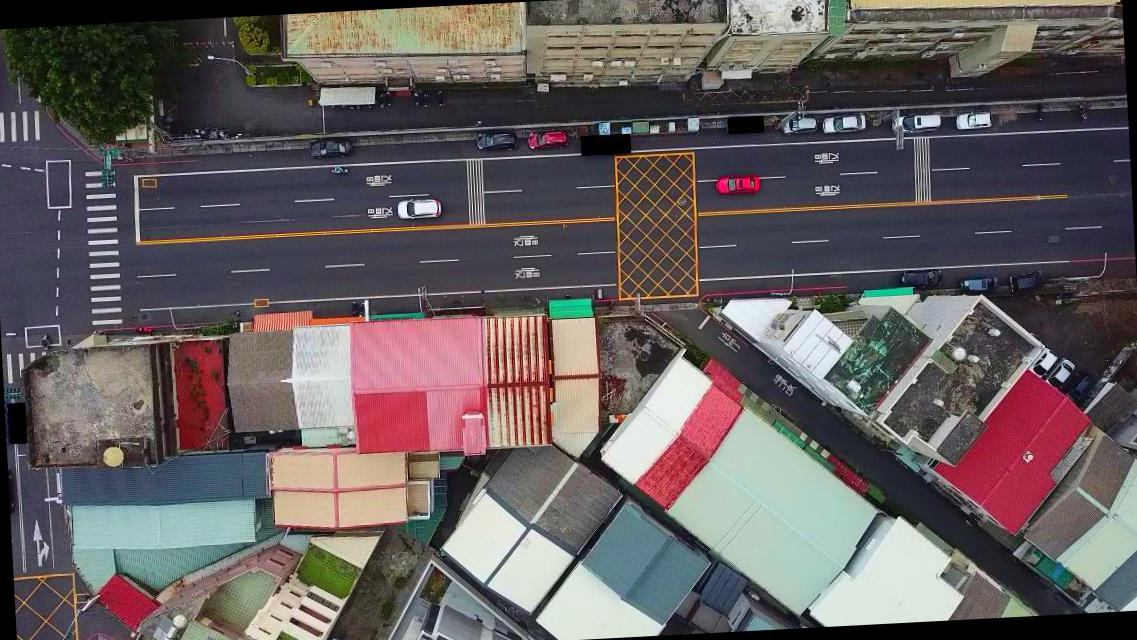vehicle: (1042, 356, 1076, 392), (899, 266, 945, 290), (1027, 345, 1059, 379), (396, 197, 442, 220), (308, 137, 352, 161), (890, 113, 940, 134), (1062, 374, 1094, 406), (822, 112, 866, 134), (476, 128, 518, 150), (716, 174, 760, 194), (1008, 270, 1046, 293), (527, 130, 568, 151), (780, 114, 816, 134), (959, 276, 998, 294), (954, 112, 992, 130)
